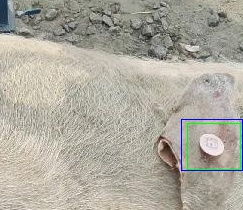text: (187, 123, 240, 169)
